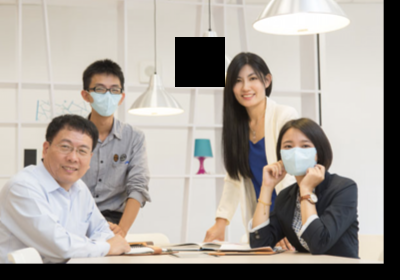with_mask: (279, 136, 318, 178), (85, 80, 123, 118)
without_mask: (47, 134, 93, 184), (234, 71, 265, 107)
